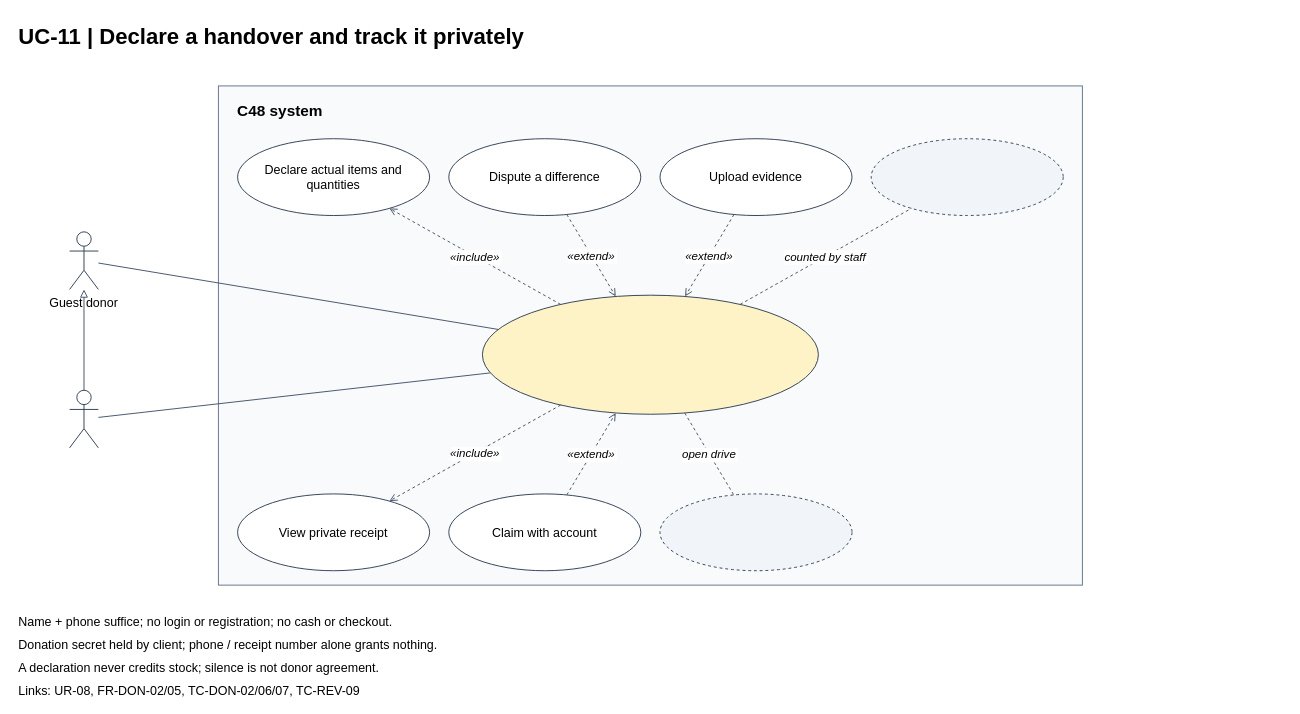
This 1300x714 diagram has some shape labels left out. Each missing label, with the centre of its shape:
"Signed-in donor" belongs at point (83, 418).
"UC-10 Manage donation drive" belongs at point (755, 532).
"UC-11 Declare a handover and track it privately" belongs at point (649, 354).
"UC-12 Count, review, post receipt" belongs at point (966, 177).
